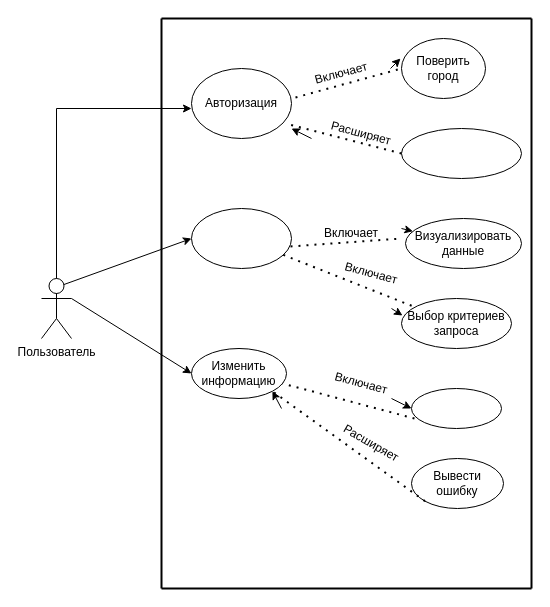
Image size: 550x607. Some labels were removed from this diagram. The box of each missing label's shape, as (x1, y1, x2, y2) in pixels:
Вывести ошибку авторизации: (400, 128, 522, 178)
Получить информацию: (190, 208, 292, 268)
Проверить информацию: (410, 388, 502, 428)
